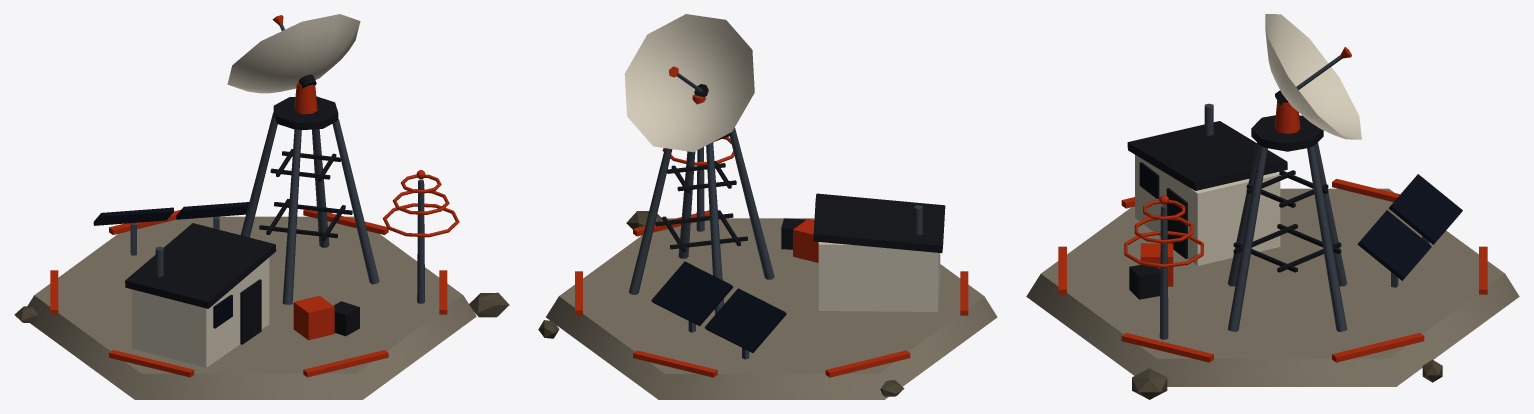
Rendered from relay-station.obj.
3 renders of one model, left to right at view 1: azimuth 30°, elevation 25°; view 2: azimuth 150°, elevation 25°; view 3: azimuth 270°, elevation 25°, orthographic. The views are drawn at different scales.
Visible parts, largest first — view 1: pad, hut_roof, hut_body, dish, tower_leg_0, crate_a, tower_leg_1, tower_platform, hut_door, tower_leg_2, solar_panel_0, tower_leg_3 (+10 smaller); view 2: pad, dish, hut_body, hut_roof, solar_panel_1, solar_panel_0, tower_leg_0, tower_leg_3, tower_leg_2, crate_a, tower_leg_1, pad_stripe_3 (+4 smaller); view 3: pad, hut_body, dish, hut_roof, solar_panel_0, solar_panel_1, tower_leg_1, tower_leg_3, tower_platform, mast_pole, crate_b, pad_stripe_0 (+13 smaller).
Part boxes in pixels (x1=…): pad: x1=27, y1=216, x2=476, y2=399; hut_roof: x1=125, y1=223, x2=276, y2=308; hut_body: x1=132, y1=257, x2=269, y2=367; dish: x1=227, y1=14, x2=360, y2=93; tower_leg_0: x1=282, y1=129, x2=301, y2=304; crate_a: x1=293, y1=295, x2=334, y2=340; tower_leg_1: x1=332, y1=119, x2=379, y2=284; tower_platform: x1=273, y1=96, x2=338, y2=130; hut_door: x1=240, y1=279, x2=261, y2=344; tower_leg_2: x1=240, y1=112, x2=277, y2=237; solar_panel_0: x1=93, y1=207, x2=174, y2=225; tower_leg_3: x1=312, y1=129, x2=329, y2=247; pad: x1=546, y1=218, x2=997, y2=399; dish: x1=624, y1=14, x2=754, y2=152; hut_body: x1=818, y1=242, x2=940, y2=311; hut_roof: x1=813, y1=193, x2=945, y2=253; solar_panel_1: x1=651, y1=261, x2=733, y2=326; solar_panel_0: x1=704, y1=288, x2=786, y2=352; tower_leg_0: x1=729, y1=127, x2=774, y2=279; tower_leg_3: x1=629, y1=148, x2=672, y2=294; tower_leg_2: x1=706, y1=142, x2=724, y2=314; crate_a: x1=793, y1=219, x2=818, y2=262; tower_leg_1: x1=678, y1=151, x2=695, y2=258; pad_stripe_3: x1=825, y1=350, x2=910, y2=377; pad: x1=1026, y1=188, x2=1519, y2=386; hut_body: x1=1135, y1=155, x2=1280, y2=265; dish: x1=1265, y1=14, x2=1361, y2=139; hut_roof: x1=1127, y1=121, x2=1287, y2=190; solar_panel_0: x1=1388, y1=174, x2=1462, y2=244; solar_panel_1: x1=1357, y1=210, x2=1431, y2=280; tower_leg_1: x1=1227, y1=145, x2=1267, y2=331; tower_leg_3: x1=1307, y1=145, x2=1347, y2=331; tower_platform: x1=1251, y1=115, x2=1323, y2=151; mast_pole: x1=1159, y1=205, x2=1168, y2=339; crate_b: x1=1129, y1=265, x2=1160, y2=299; pad_stripe_0: x1=1121, y1=333, x2=1213, y2=362.
Size of the model in its own units: 6.53 by 4.75 by 6.8.
